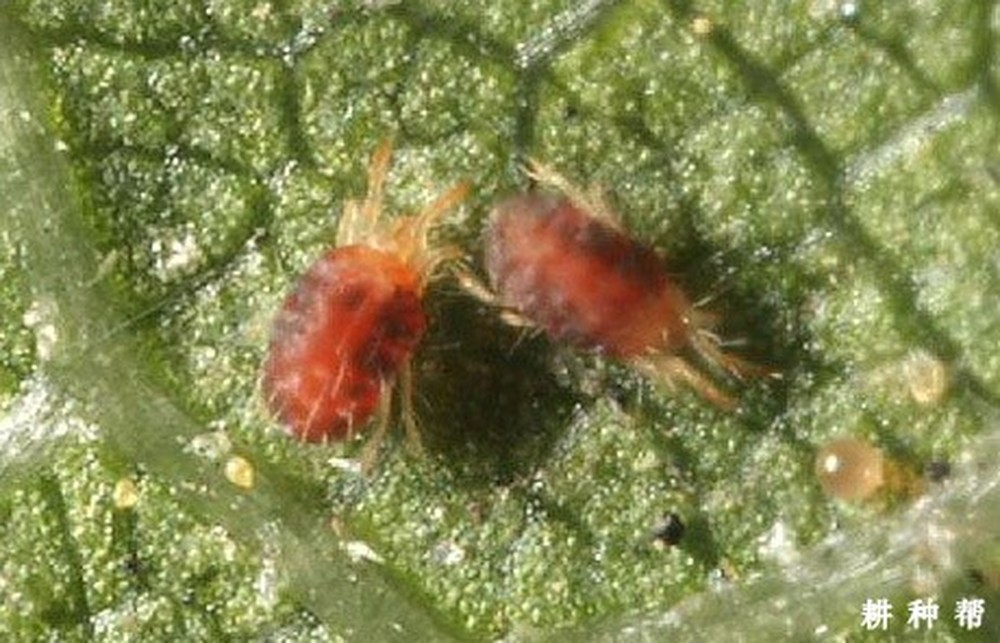Aracnido Rojo: (472, 148, 776, 442), (237, 130, 469, 466)
